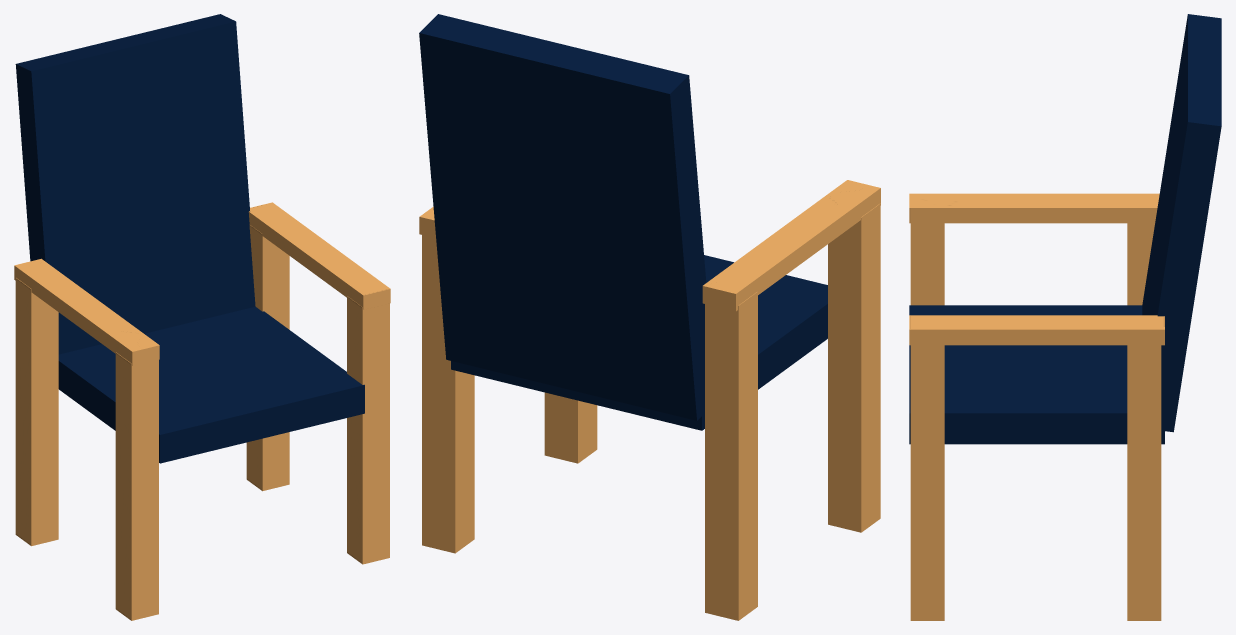
Rendered from Chair.fbx.
The picture shows the model from 3 angles, left to right: view 1: azimuth 30°, elevation 25°; view 2: azimuth 150°, elevation 25°; view 3: azimuth 270°, elevation 25°; orthographic projection. The views are drawn at different scales.
Parts seen in each view (by area): view 1: Cube.001, Cube, Cube.004, Cube.005, Cube.002, Cube.007, Cube.006, Cube.003; view 2: Cube.001, Cube.005, Cube.004, Cube.003, Cube, Cube.007, Cube.002; view 3: Cube, Cube.001, Cube.002, Cube.003, Cube.006, Cube.007, Cube.004, Cube.005.
Boxes of the visible parts, x1,y1,x2,y2 form: Cube.001: (15,14,255,354); Cube: (58,306,364,463); Cube.004: (115,352,158,620); Cube.005: (15,278,58,546); Cube.002: (347,296,389,564); Cube.007: (14,258,159,365); Cube.006: (248,202,390,309); Cube.003: (246,224,289,491); Cube.001: (419,14,706,420); Cube.005: (705,291,757,620); Cube.004: (828,203,880,532); Cube.003: (422,235,474,553); Cube: (451,255,827,430); Cube.007: (702,180,880,311); Cube.002: (544,392,597,463); Cube: (909,305,1164,444); Cube.001: (1142,14,1221,432); Cube.002: (910,345,944,620); Cube.003: (1127,345,1161,620); Cube.006: (909,315,1164,345); Cube.007: (909,193,1159,223); Cube.004: (910,223,944,305); Cube.005: (1127,223,1154,305).
Bounding box in the file's own units: 189 × 314 × 183.
